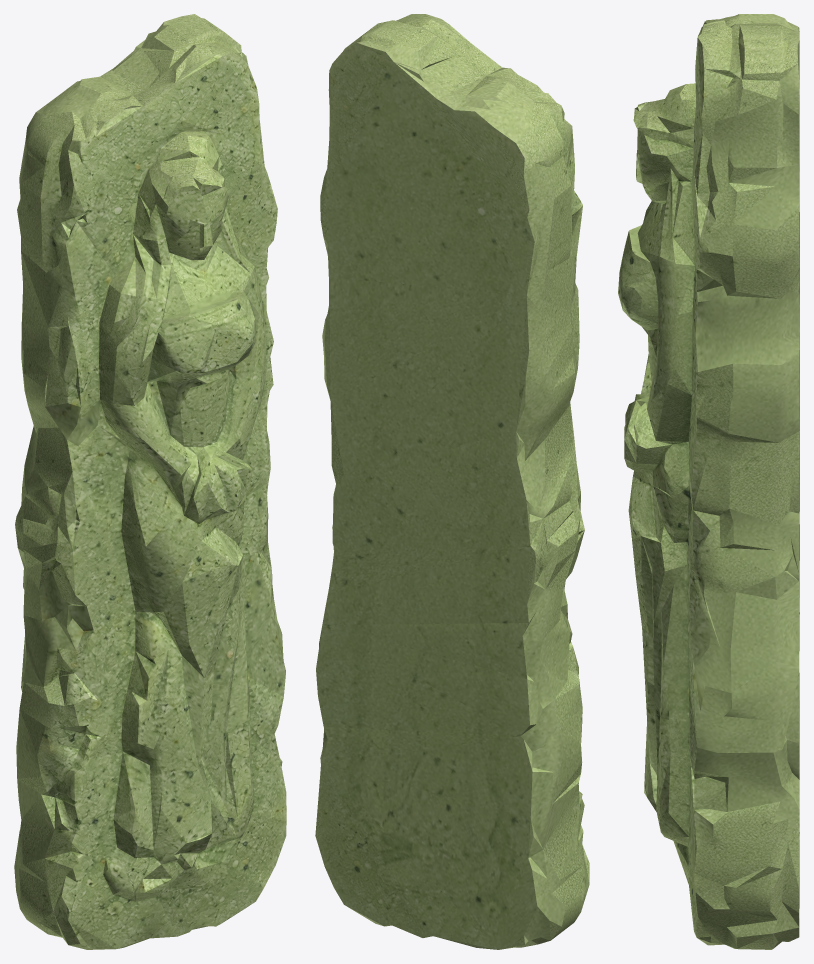
Rendered from remeshed-tanitab.glb.
3 views of the same model, side by side, from view 1: azimuth 30°, elevation 25°; view 2: azimuth 150°, elevation 25°; view 3: azimuth 270°, elevation 25° (orthographic). The views are drawn at different scales.
Visible parts, largest first — view 1: output_unwrapped; view 2: output_unwrapped; view 3: output_unwrapped.
Part boxes in pixels (<box>): output_unwrapped: <box>14,14,286,949</box>; output_unwrapped: <box>315,14,589,949</box>; output_unwrapped: <box>618,14,799,949</box>.
Bounding box in the file's own units: 0.54 × 1.9 × 0.3425.
1 material, 1 textured.
